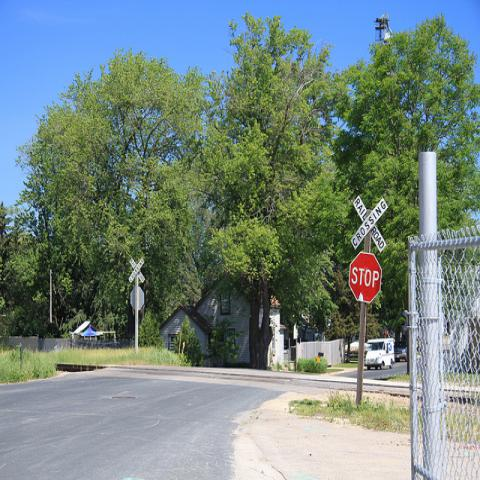car: (394, 341, 407, 361)
truck: (364, 338, 395, 370)
